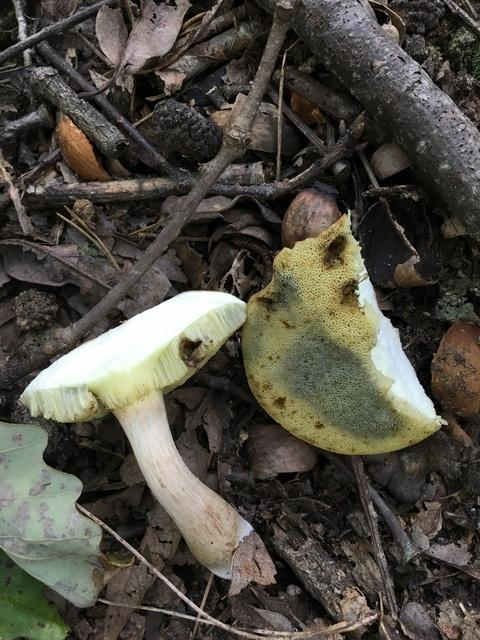Edible Mushroom: (18, 287, 255, 580), (240, 209, 448, 456)
